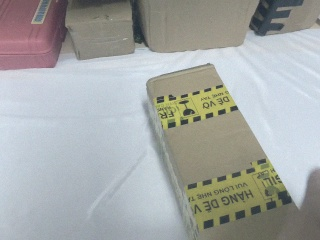box: (145, 63, 294, 240), (133, 1, 264, 52), (66, 1, 135, 60), (249, 1, 320, 36)
